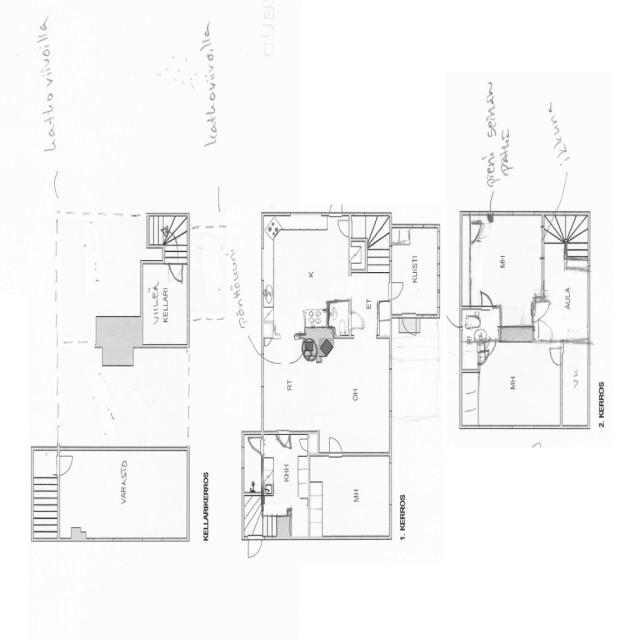door: (531, 296, 552, 322), (534, 316, 554, 343), (400, 312, 419, 336), (246, 534, 264, 559), (56, 452, 74, 476), (336, 215, 354, 238), (327, 433, 344, 457), (387, 279, 405, 300), (168, 261, 185, 283), (349, 310, 366, 332), (247, 433, 264, 454), (548, 344, 564, 366), (276, 429, 291, 449), (479, 289, 493, 309), (298, 434, 312, 452)
window: (286, 207, 326, 221), (257, 244, 268, 285), (386, 365, 395, 414), (386, 461, 394, 509), (435, 227, 443, 268), (434, 272, 442, 310), (258, 354, 266, 389), (412, 220, 436, 230), (510, 422, 536, 431), (240, 444, 246, 468), (350, 210, 366, 218)
zone: (263, 333, 392, 447), (59, 352, 194, 447), (59, 448, 187, 538), (263, 212, 351, 332), (474, 339, 562, 428), (308, 453, 392, 539), (466, 214, 544, 306), (261, 329, 318, 432), (263, 431, 310, 536), (540, 245, 590, 342), (390, 222, 440, 317), (142, 262, 188, 346), (348, 215, 388, 272), (562, 341, 588, 426), (147, 214, 188, 252), (242, 433, 263, 493), (461, 307, 484, 350), (329, 299, 352, 336)
